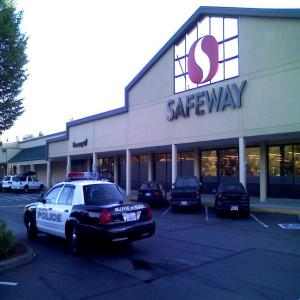Vehicle-registration-plate: (126, 214, 139, 224), (231, 206, 239, 211), (182, 201, 188, 206), (147, 193, 151, 197)
